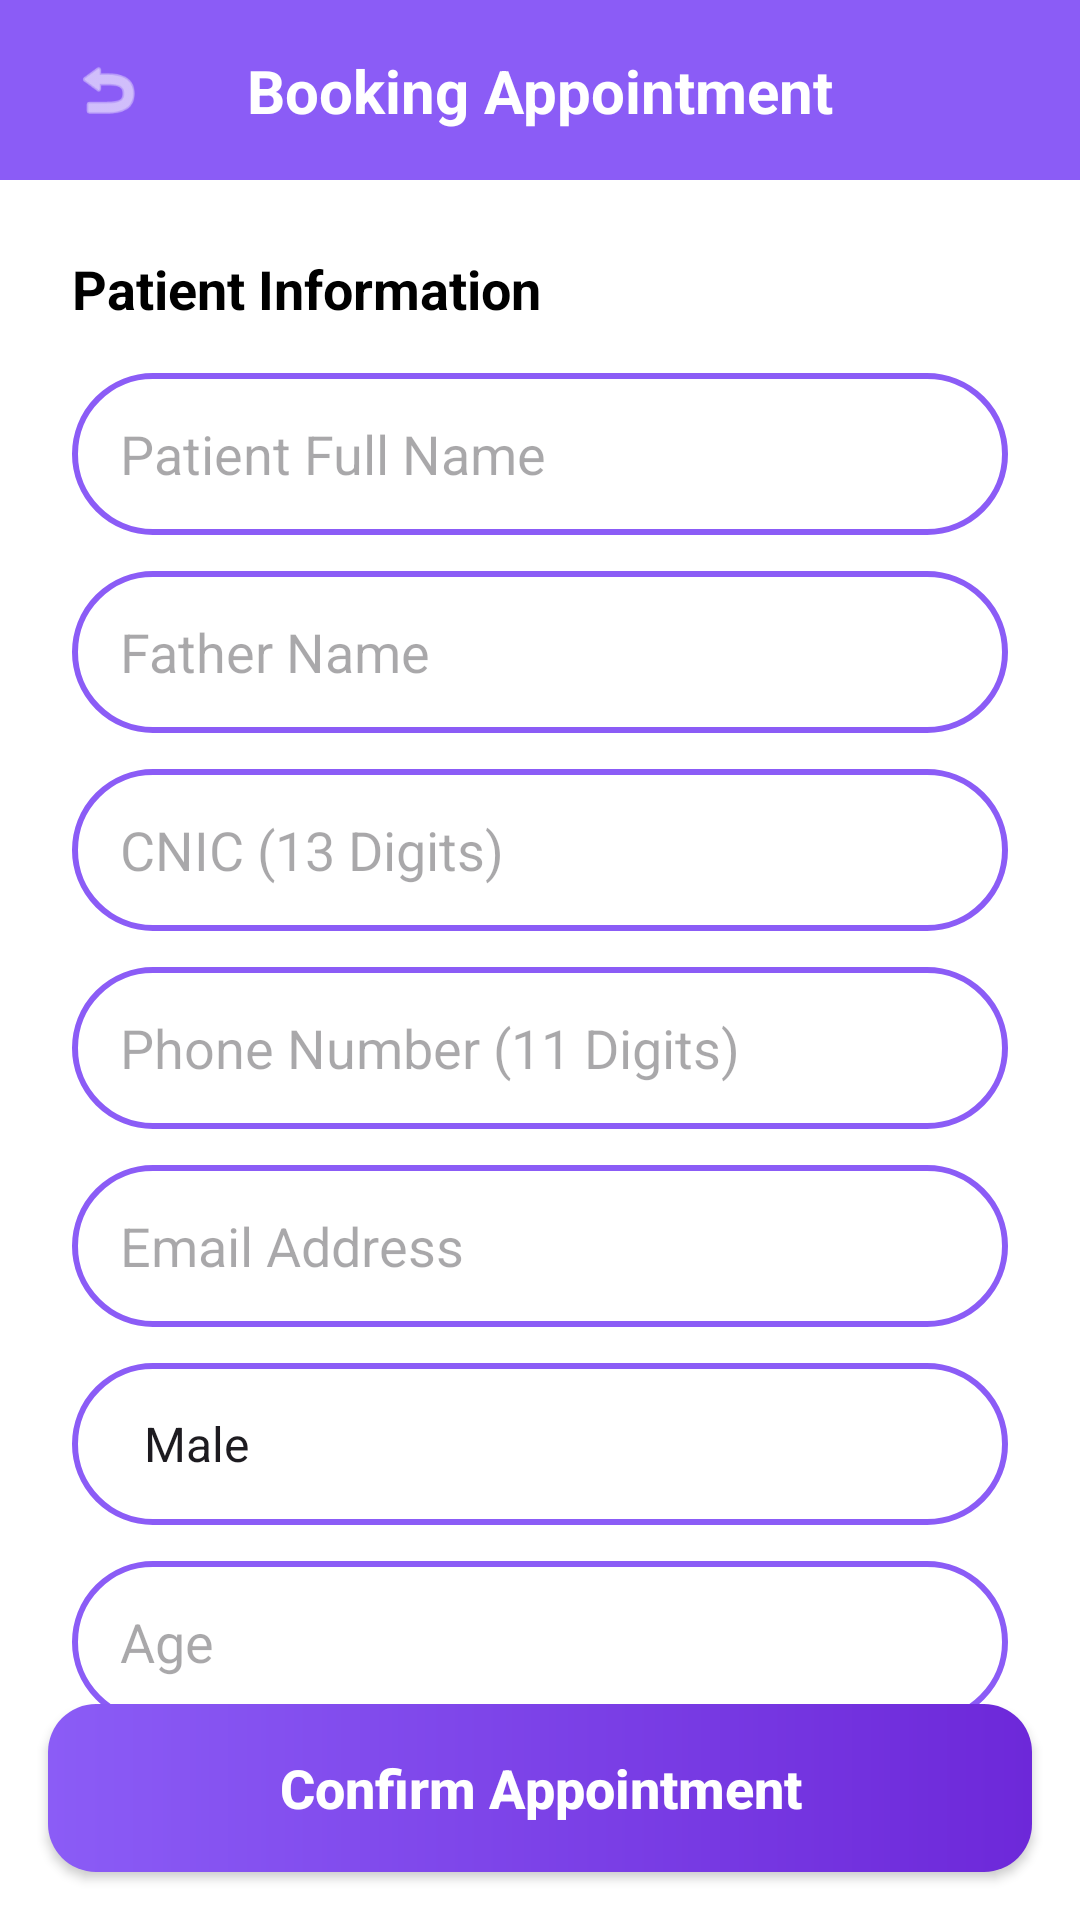

Icon click points for this 1080w x 1920h phone screenshot, format (x,y):
revert: (109,90)
